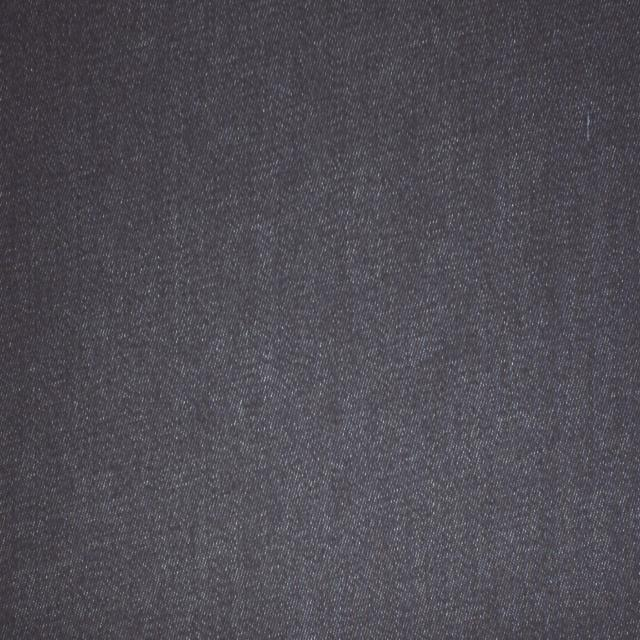Knot: (587, 110, 591, 142)
